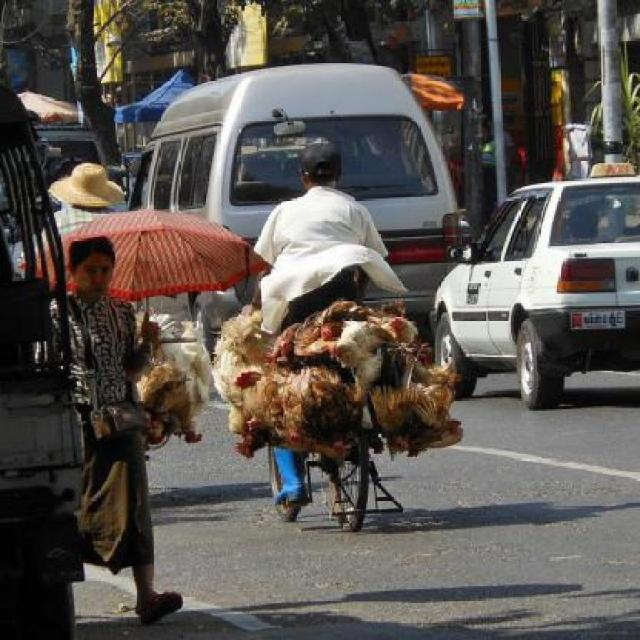Person: (48, 238, 181, 622), (238, 134, 389, 312), (261, 238, 408, 334), (50, 161, 124, 237), (564, 200, 599, 242)
